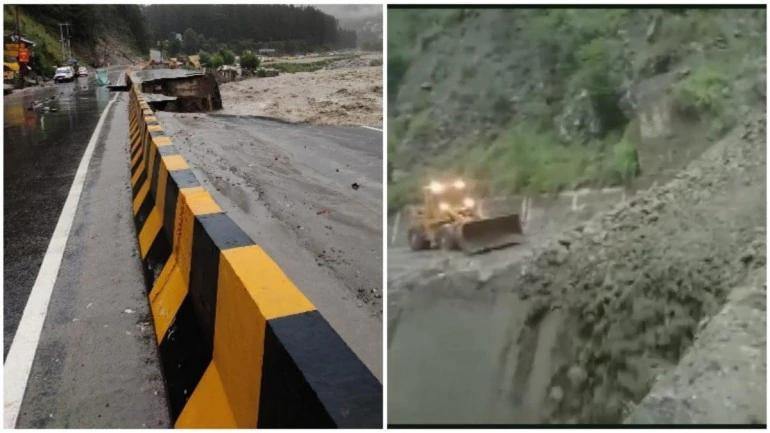car: (393, 173, 524, 251)
